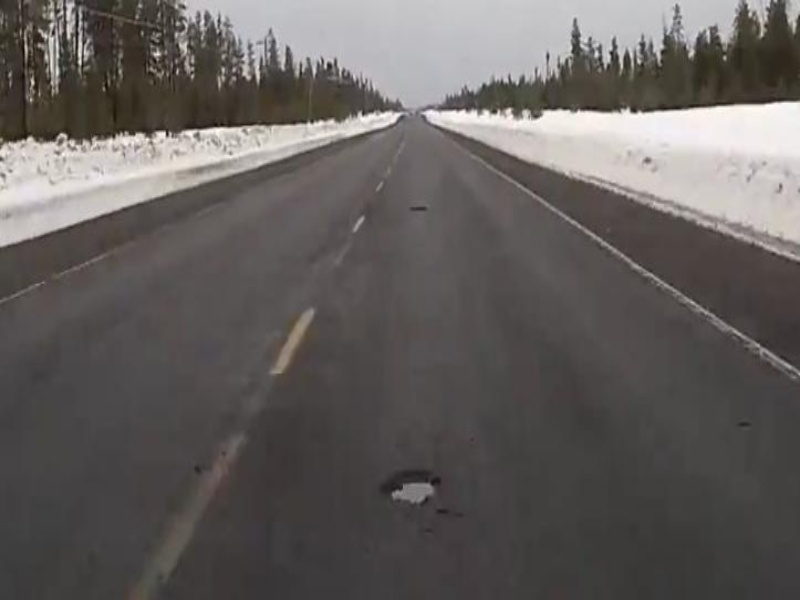pothole: (381, 465, 446, 508)
